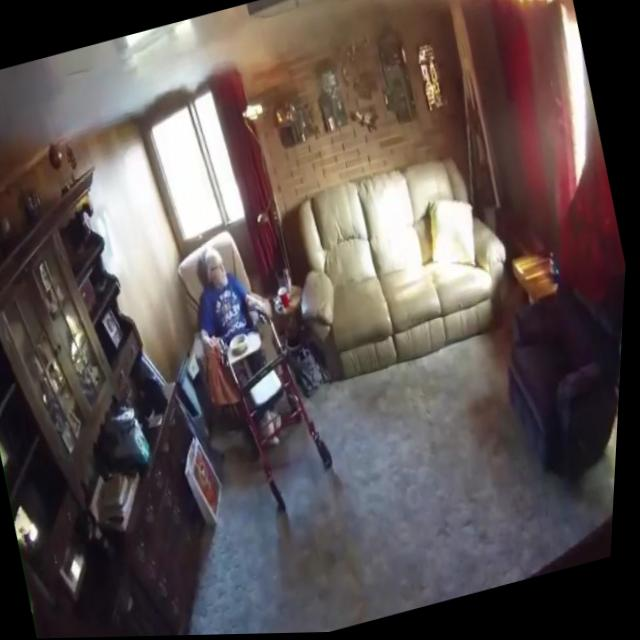fire: (460, 0, 563, 24)
